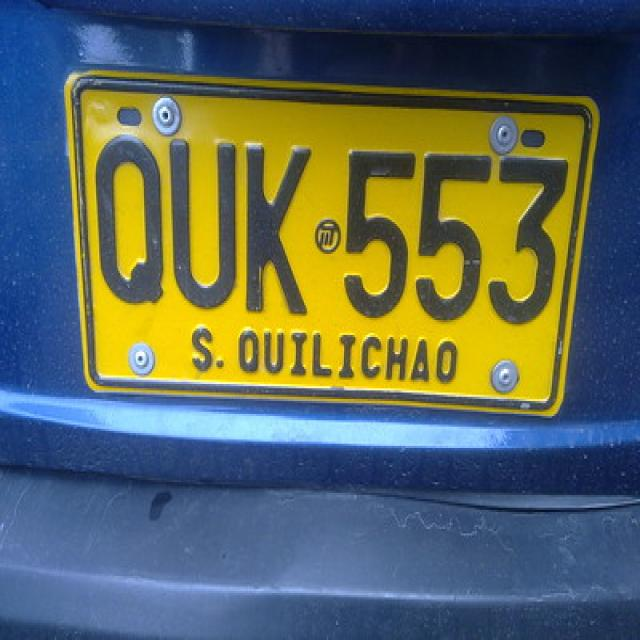placa_carro: (66, 60, 607, 428)
